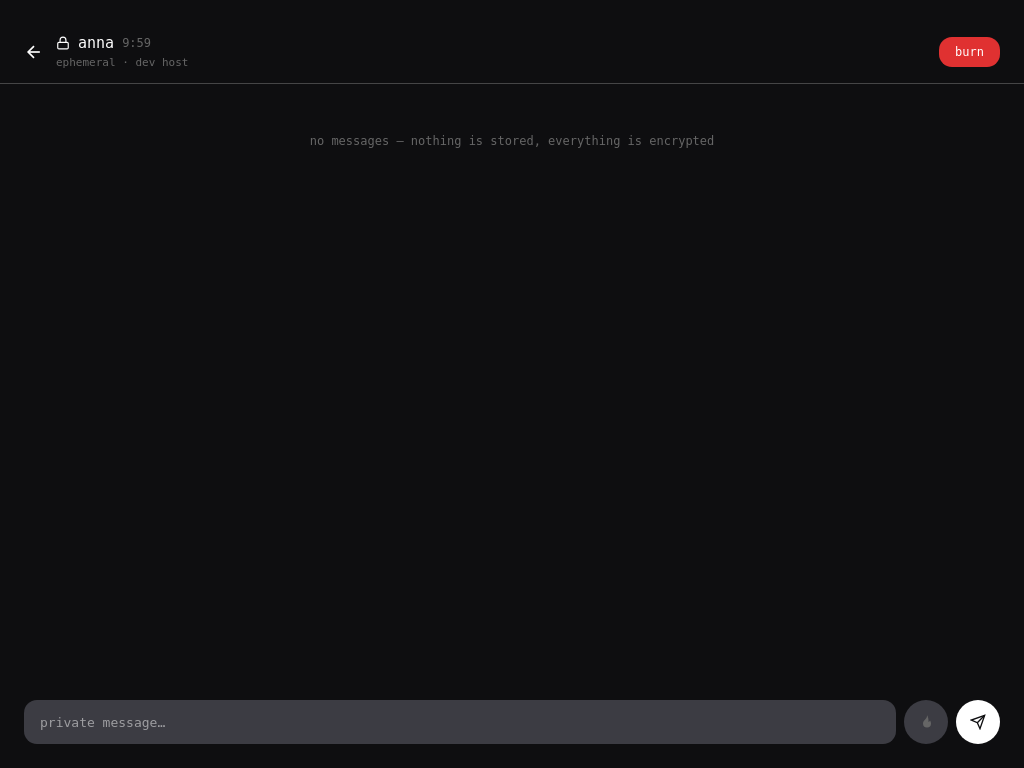
S12 private chat › view-once toggle marks the outgoing message
Click the button with test id "view-once-toggle": (926, 722) x1=904 y1=700 x2=948 y2=744
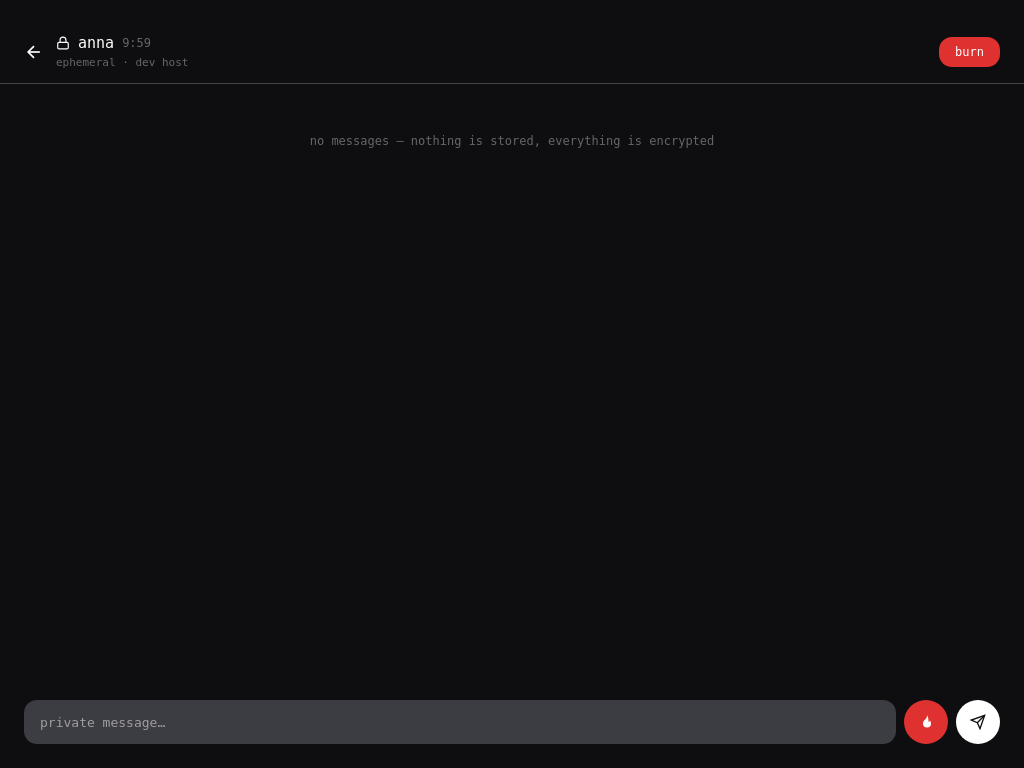
In the field with test id "priv-input": (460, 722) x1=24 y1=700 x2=896 y2=744, type "vanish"
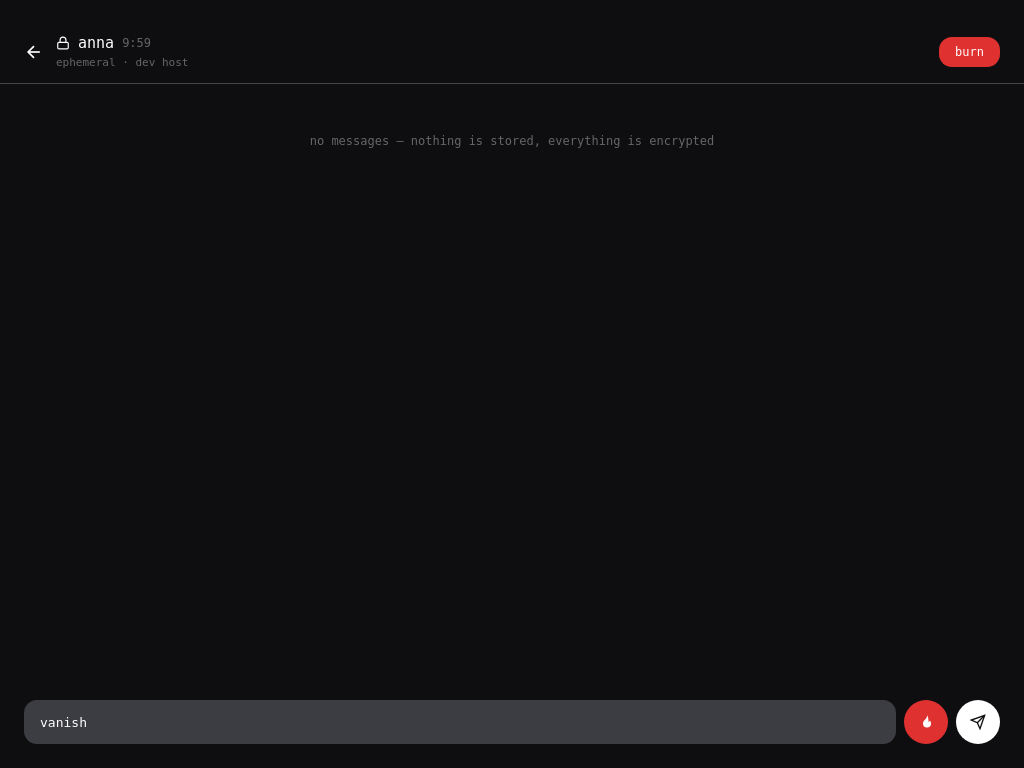
Click the button with test id "priv-send": (978, 722) x1=956 y1=700 x2=1000 y2=744
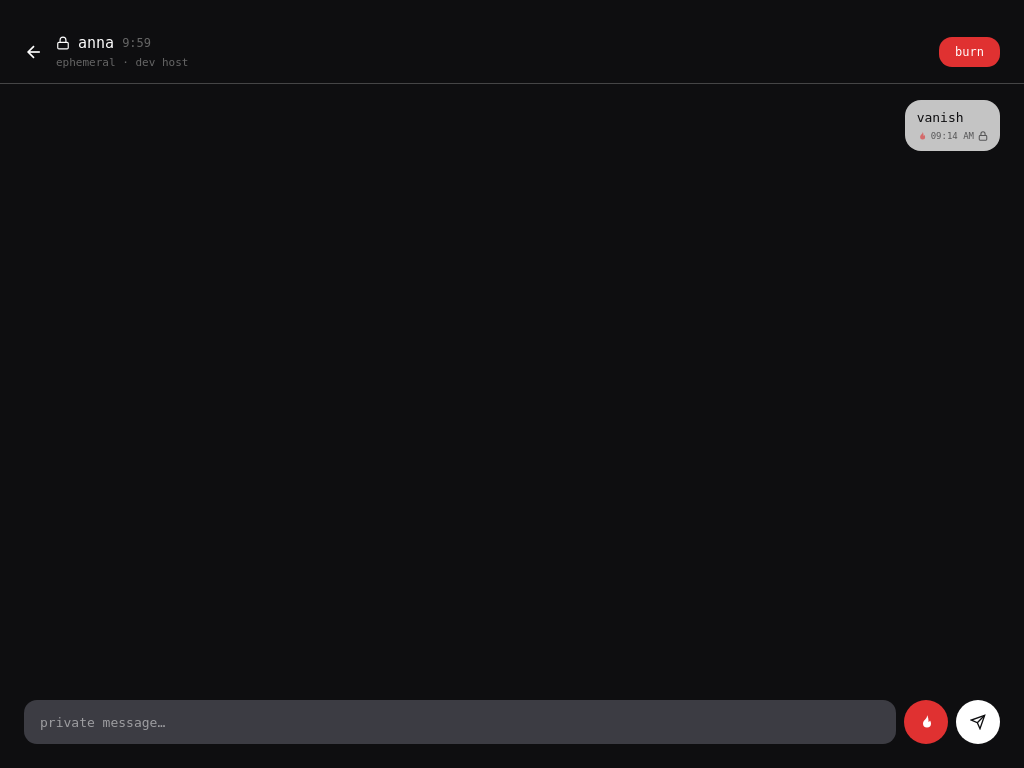
Expected: the text "vanish" is shown, x1=917 y1=110 x2=964 y2=125
Expected: the icon with test id "view-once-mark" is shown, x1=917 y1=131 x2=927 y2=141
